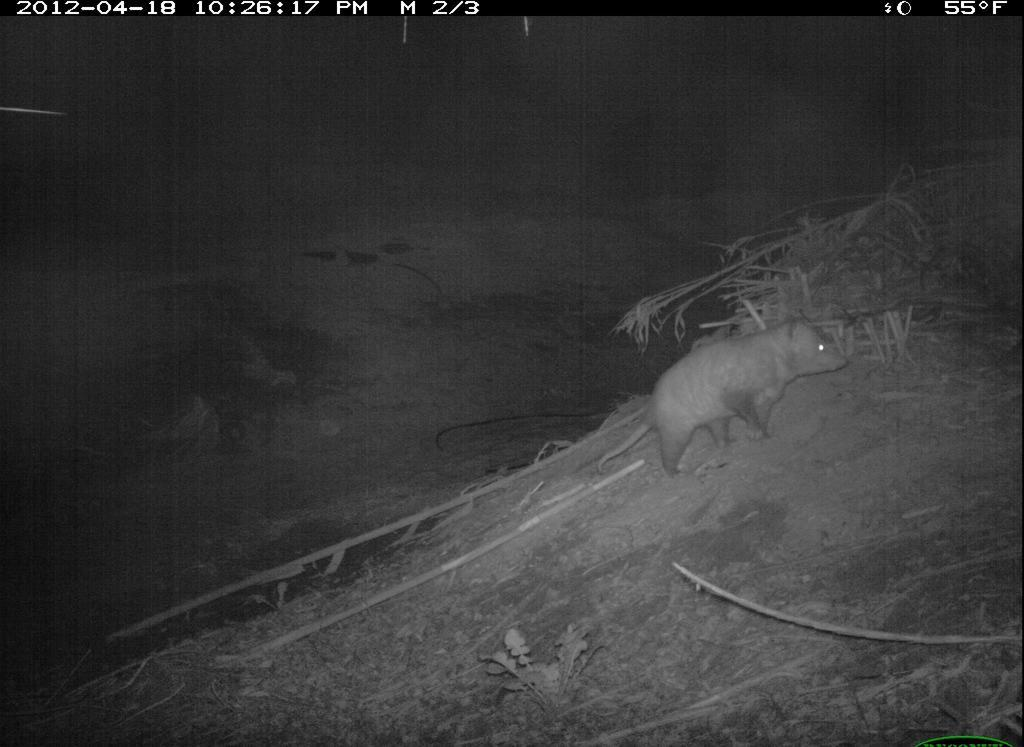opossum: (584, 315, 865, 488)
